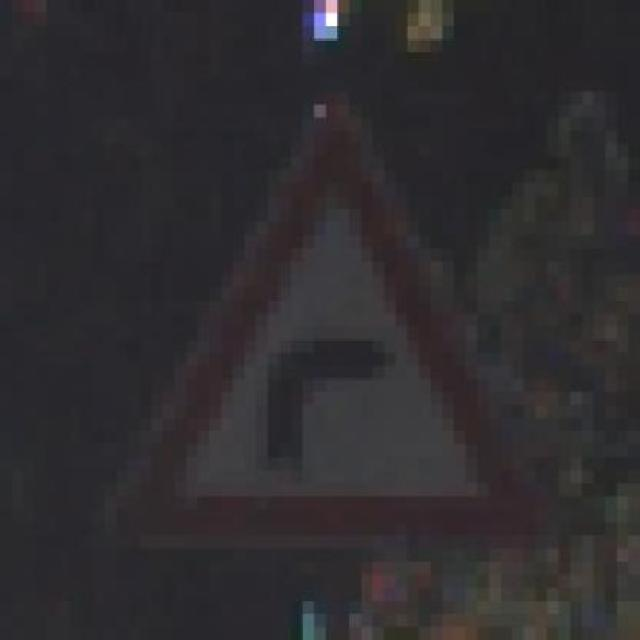Dangerous Rright Curve Ahead: (104, 78, 558, 550)
